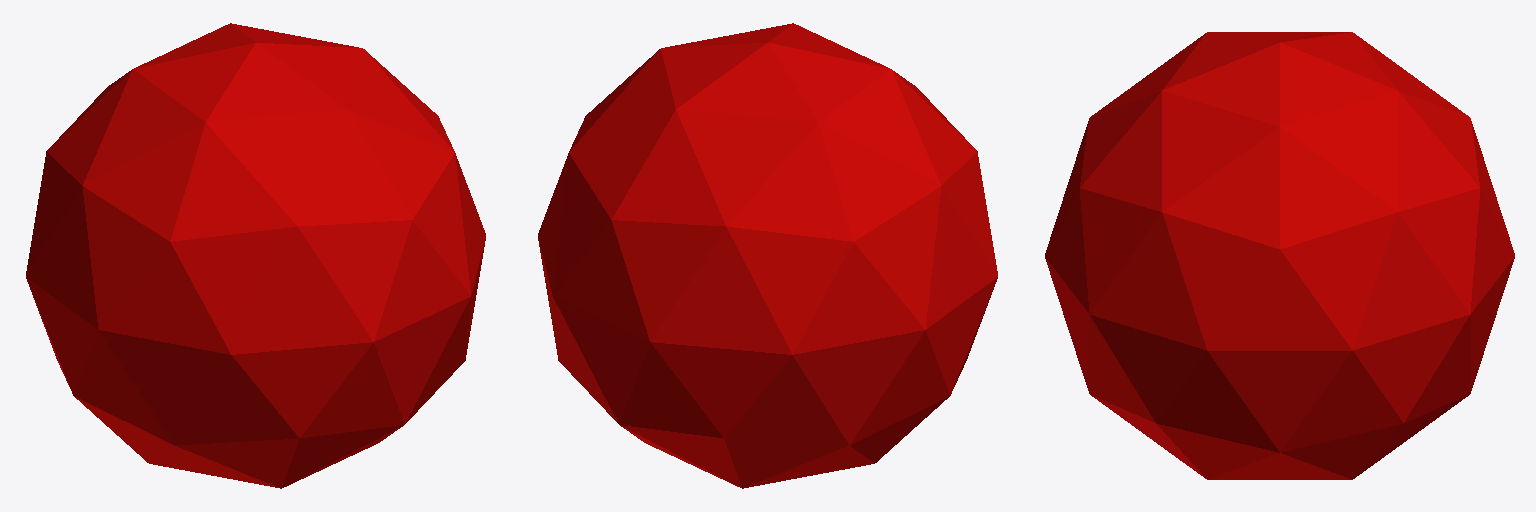
Rendered from red_sphere.obj.
3 renders of one model, left to right at view 1: azimuth 30°, elevation 25°; view 2: azimuth 150°, elevation 25°; view 3: azimuth 270°, elevation 25°, orthographic.
Visible parts, largest first — view 1: Icosphere; view 2: Icosphere; view 3: Icosphere.
Part boxes in pixels (bbox=[...]): Icosphere: bbox=[26, 23, 485, 488]; Icosphere: bbox=[538, 23, 997, 488]; Icosphere: bbox=[1045, 32, 1514, 479].
Bounding box in the file's own units: 1.9 × 2 × 2.